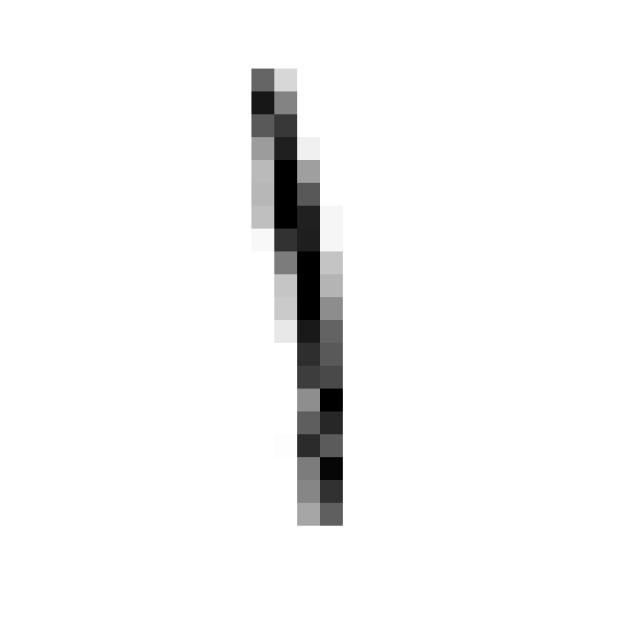1 -one-: (226, 51, 371, 546)
